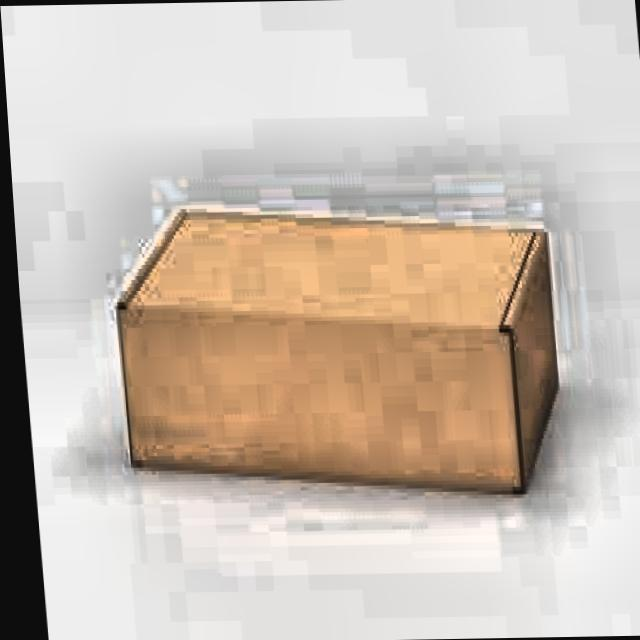Cardbox: (93, 192, 575, 526)
